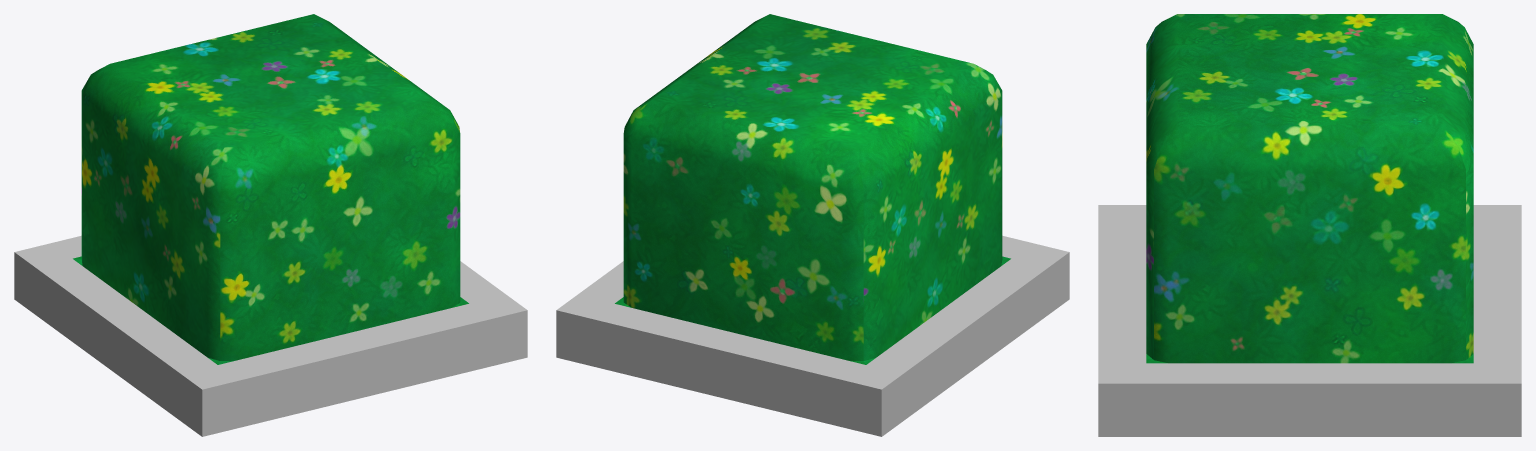
The model's file is Plant02_c03.FBX.
3 renders of one model, left to right at view 1: azimuth 30°, elevation 25°; view 2: azimuth 150°, elevation 25°; view 3: azimuth 270°, elevation 25°, orthographic. The views are drawn at different scales.
Visible parts, largest first — view 1: Plant02_c03; view 2: Plant02_c03; view 3: Plant02_c03.
Part boxes in pixels (x1,y1,x2,y2): Plant02_c03: (14,14,527,436); Plant02_c03: (556,14,1069,436); Plant02_c03: (1098,14,1521,436).
Size of the model in its own units: 339 by 245 by 339.
